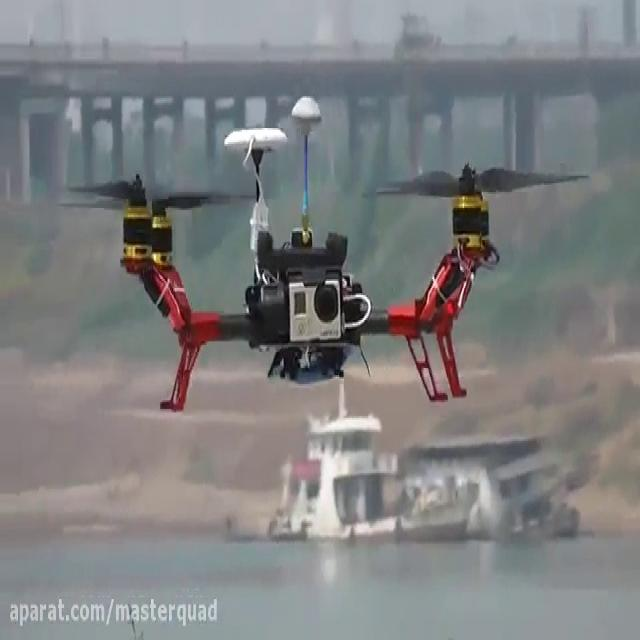drone: (58, 89, 593, 418)
